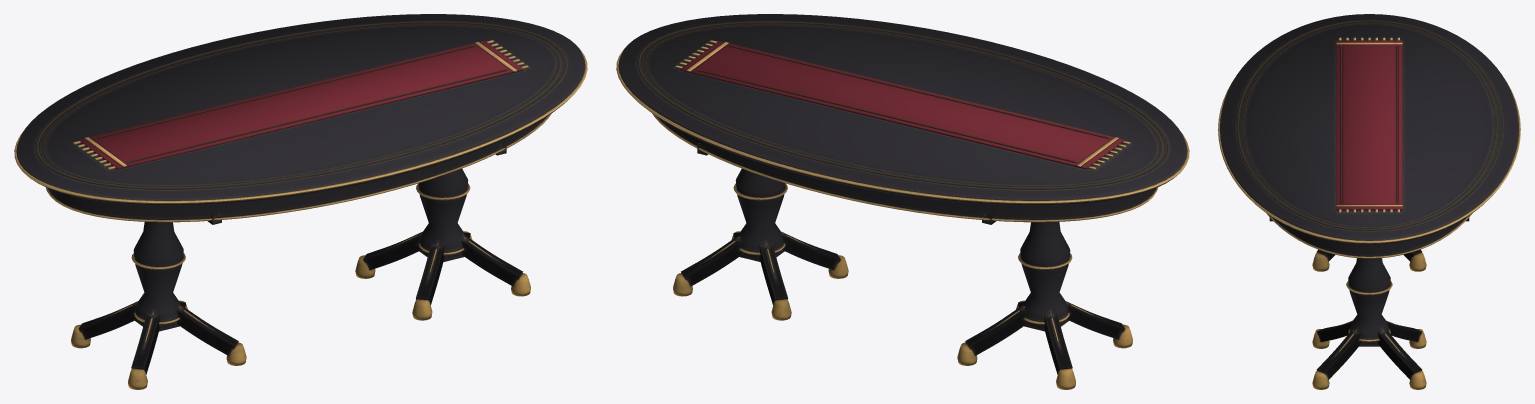
The model's file is TableOval.fbx.
3 renders of one model, left to right at view 1: azimuth 30°, elevation 25°; view 2: azimuth 150°, elevation 25°; view 3: azimuth 270°, elevation 25°, orthographic. The views are drawn at different scales.
Visible parts, largest first — view 1: TableOval; view 2: TableOval; view 3: TableOval.
Part boxes in pixels (left/top/right/bottom): TableOval: left=14, top=14, right=587, bottom=389; TableOval: left=616, top=14, right=1189, bottom=389; TableOval: left=1218, top=14, right=1520, bottom=389.
Size of the model in its own units: 805 by 303 by 455.
